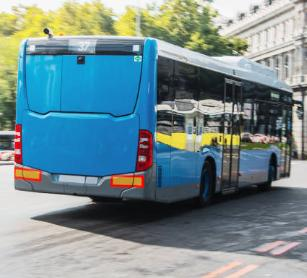vehicle: (14, 28, 303, 207)
